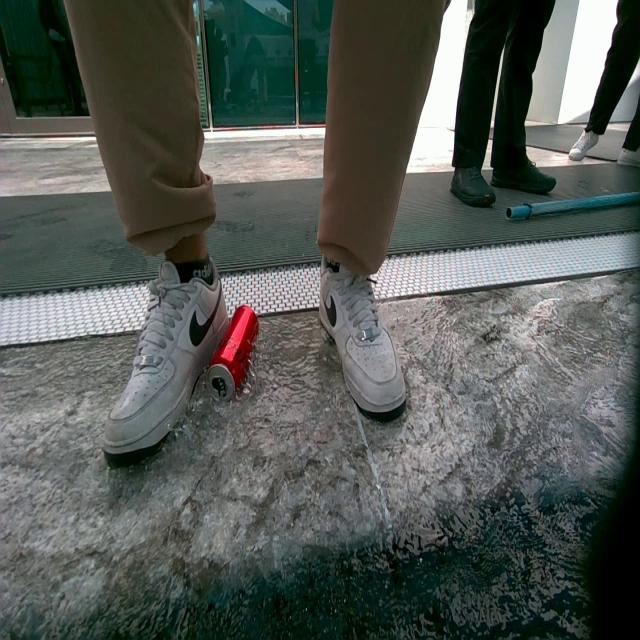Cans: (206, 310, 258, 418)
